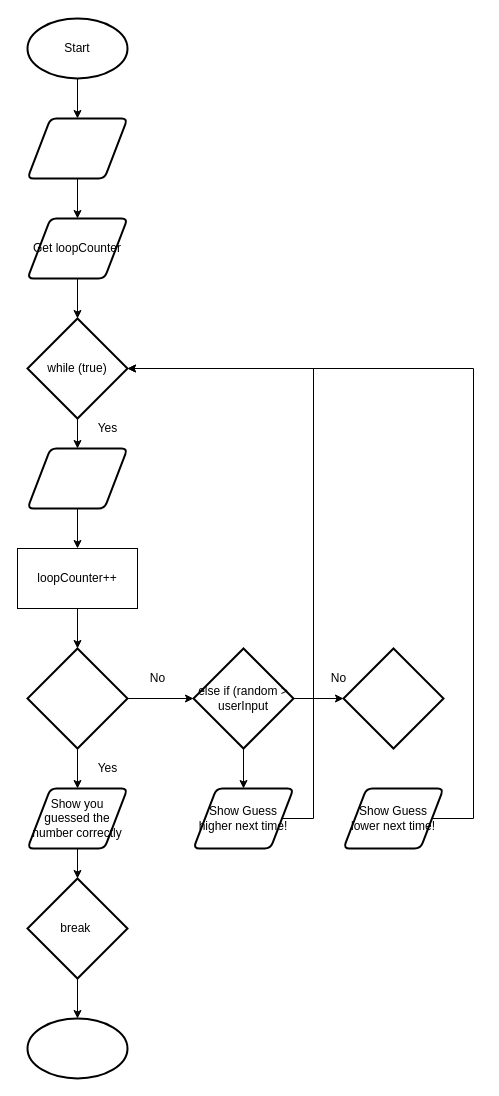
Some shapes in this 499 by 1096 pixel diagram are drawn without their labels. Here are the shapes that lost their labels. From the top down, the box of each, then its label:
(26, 117, 128, 179): Get random
(26, 447, 128, 509): Get userInput
(26, 647, 128, 749): if (userInput == random)
(342, 647, 444, 749): else if (random < userInput
(26, 1017, 128, 1079): Stop
